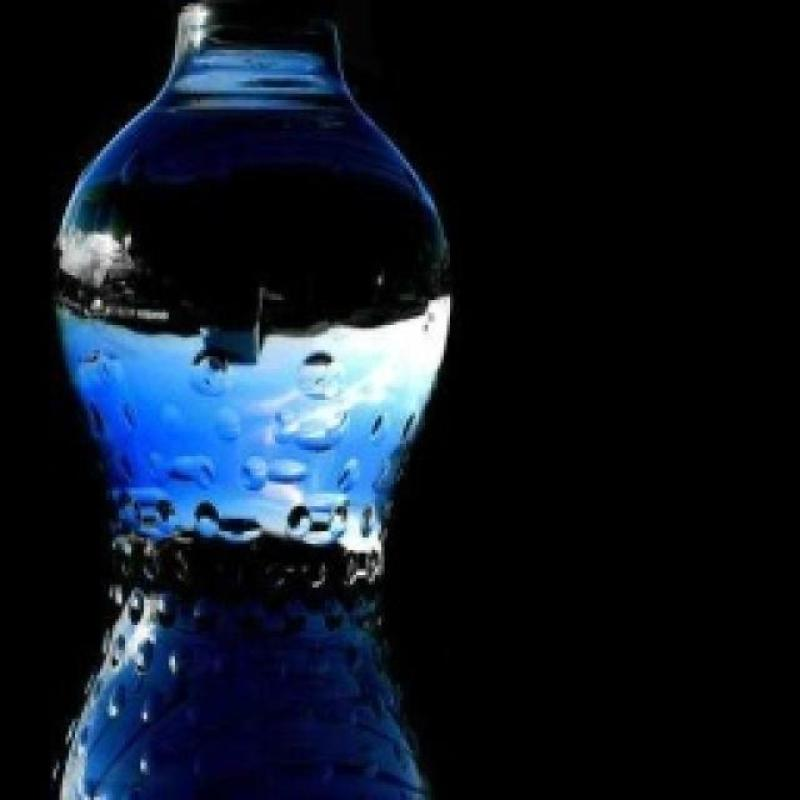botella: (53, 5, 459, 793)
